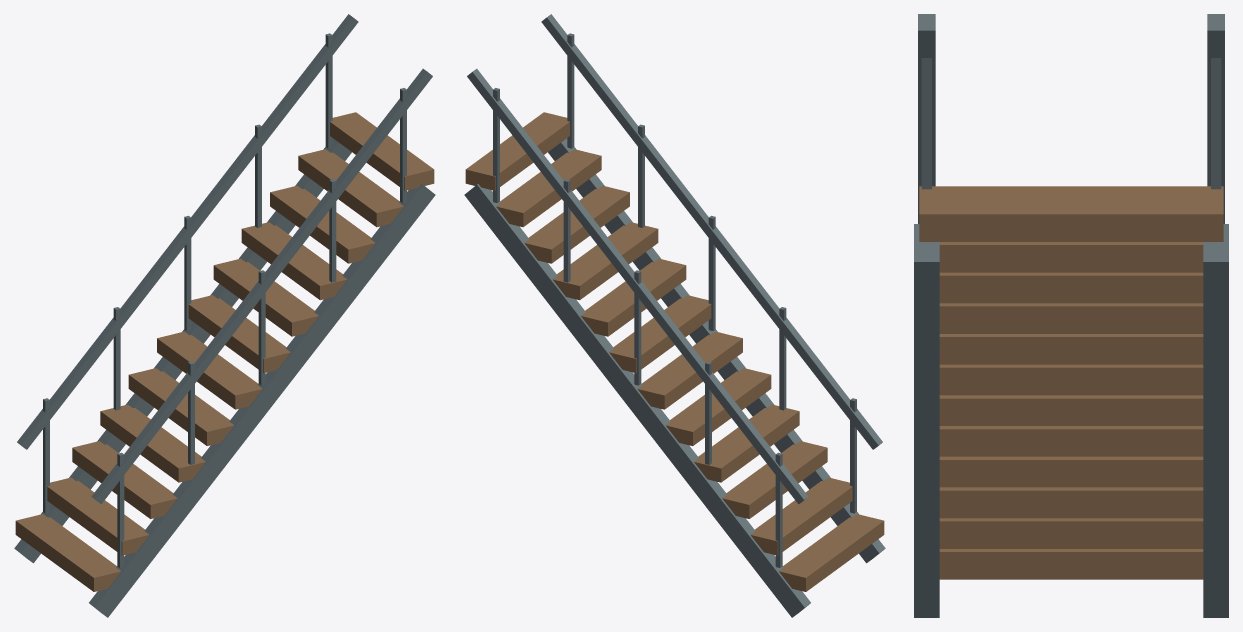
Rendered from stairs.glb.
3 views of the same model, side by side, from view 1: azimuth 30°, elevation 25°; view 2: azimuth 150°, elevation 25°; view 3: azimuth 270°, elevation 25° (orthographic). The views are drawn at different scales.
Visible parts, largest first — view 1: Лестничный марш; view 2: Лестничный марш; view 3: Лестничный марш.
Part boxes in pixels (x1=…): Лестничный марш: x1=14, y1=14, x2=435, y2=617; Лестничный марш: x1=464, y1=14, x2=885, y2=617; Лестничный марш: x1=914, y1=14, x2=1228, y2=617.
Size of the model in its own units: 3.01 by 3.95 by 1.24.
